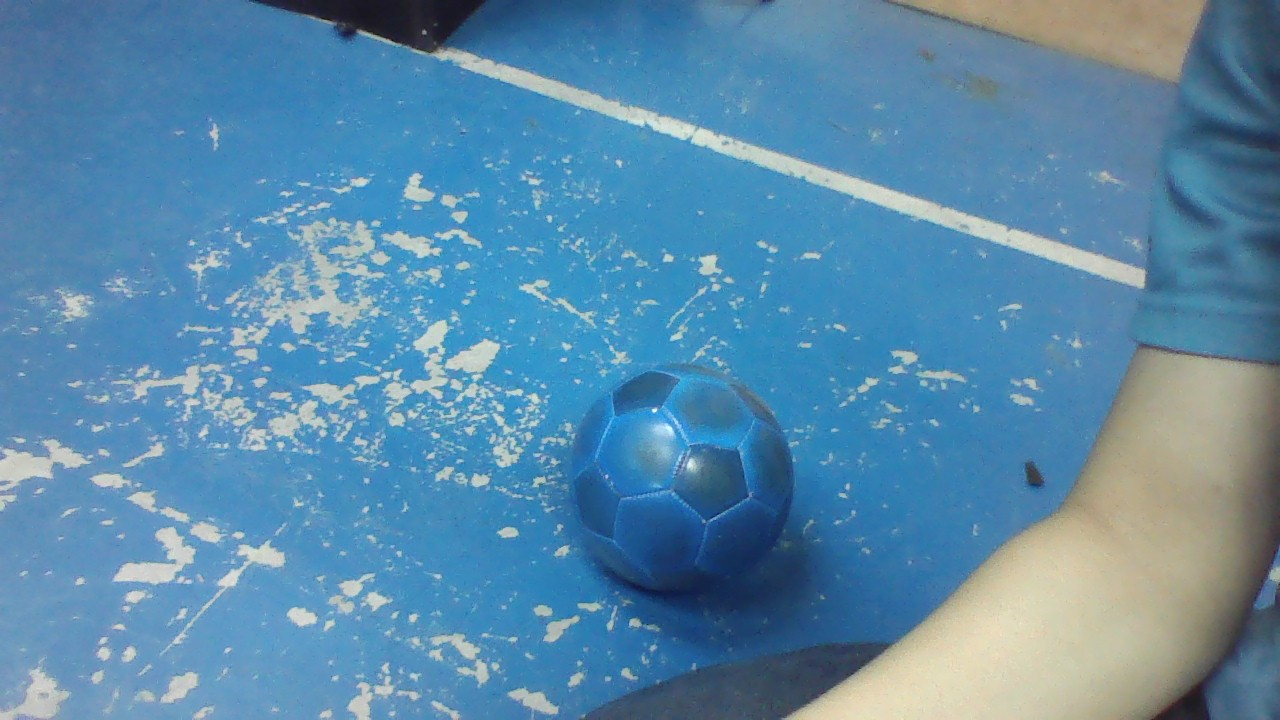Blue: (567, 364, 792, 590)
